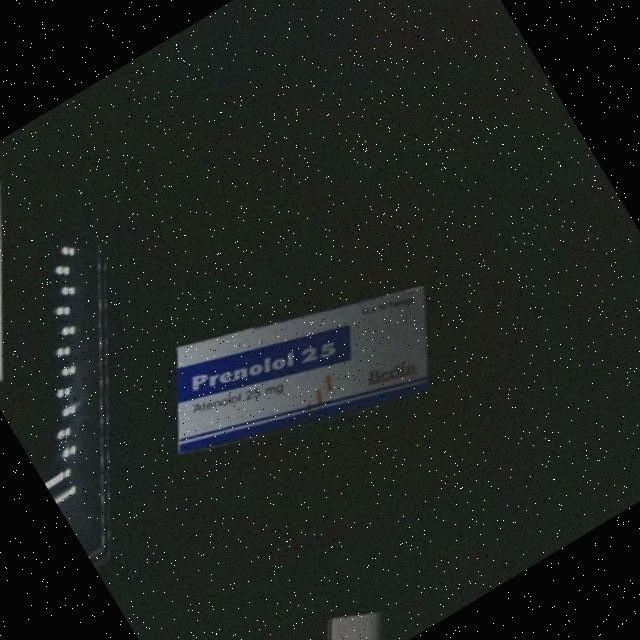prenolol: (134, 226, 470, 517)
